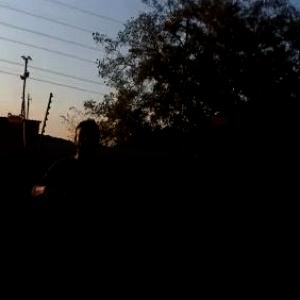follow: (28, 115, 115, 299)
